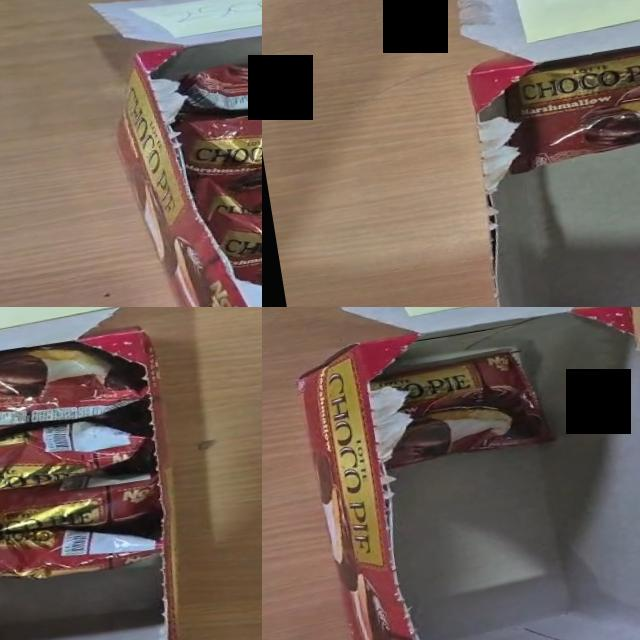Chocopie: (367, 343, 559, 471), (493, 27, 640, 173), (0, 330, 153, 445), (0, 450, 167, 548), (0, 411, 157, 506), (0, 510, 166, 595), (173, 82, 262, 200), (170, 40, 262, 128), (206, 176, 262, 301), (187, 143, 262, 233)
